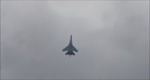maybay_muctieu: (64, 33, 79, 58)
